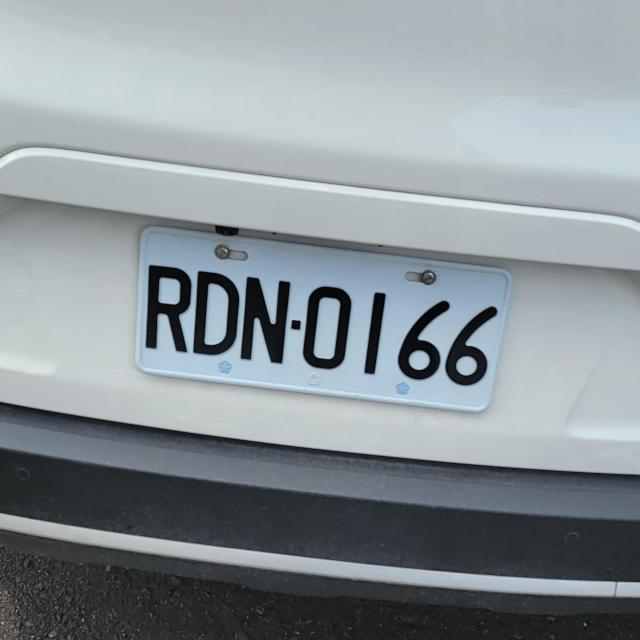W: (123, 222, 518, 425)
